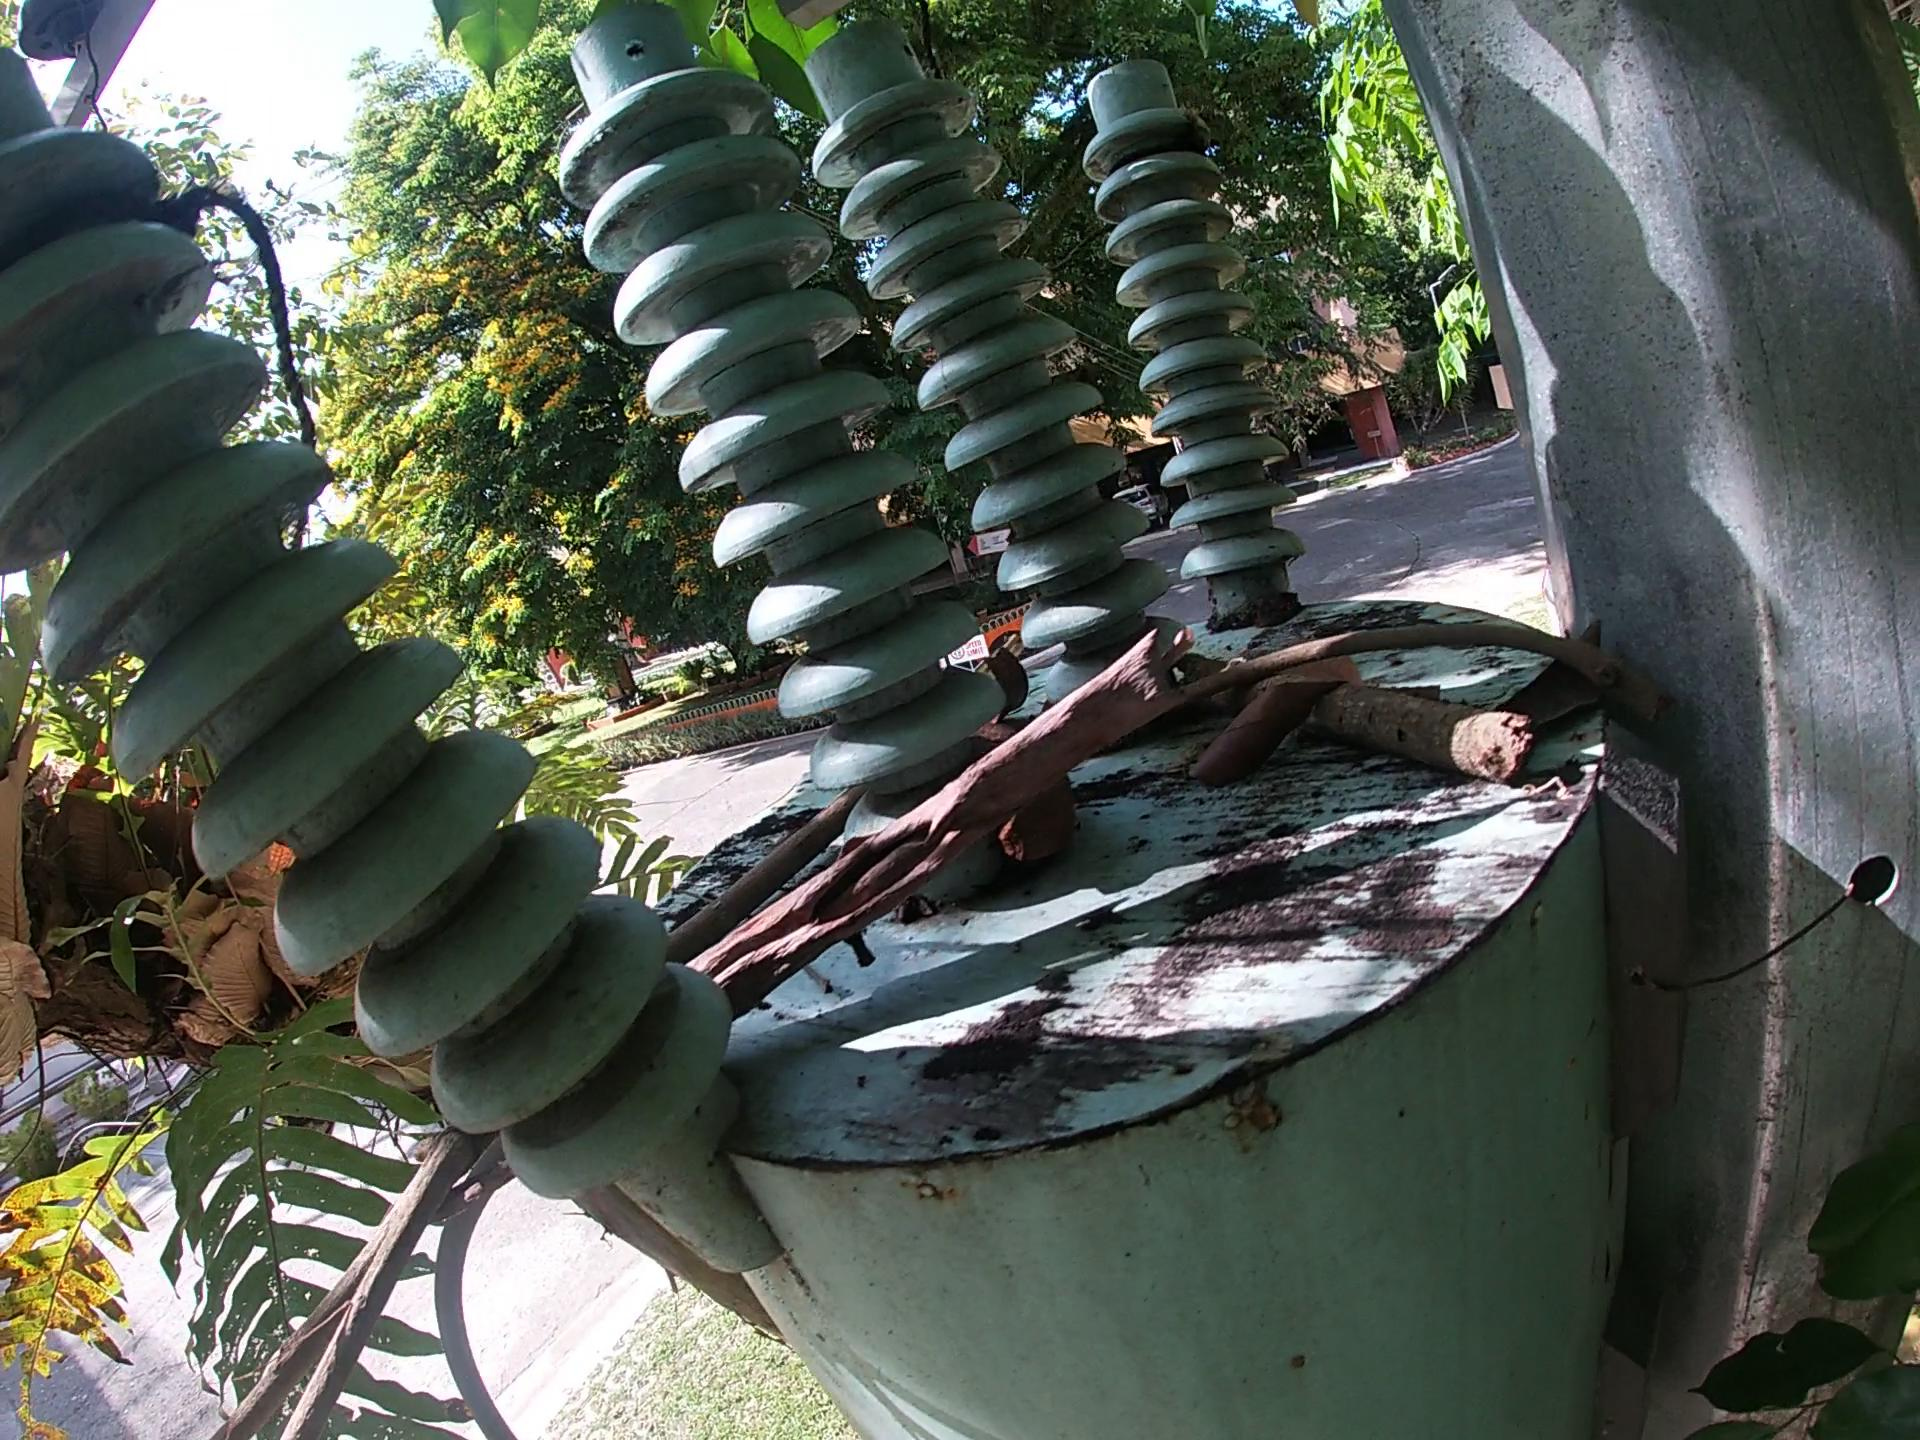leaf: (1500, 617, 1625, 722)
mahogany fruit: (993, 774, 1076, 894), (992, 649, 1030, 718), (971, 718, 1023, 749)
tree branch: (697, 616, 1212, 1013), (169, 1130, 494, 1434), (1193, 647, 1569, 790), (1147, 622, 1637, 723), (652, 794, 856, 957), (968, 628, 1027, 678)
